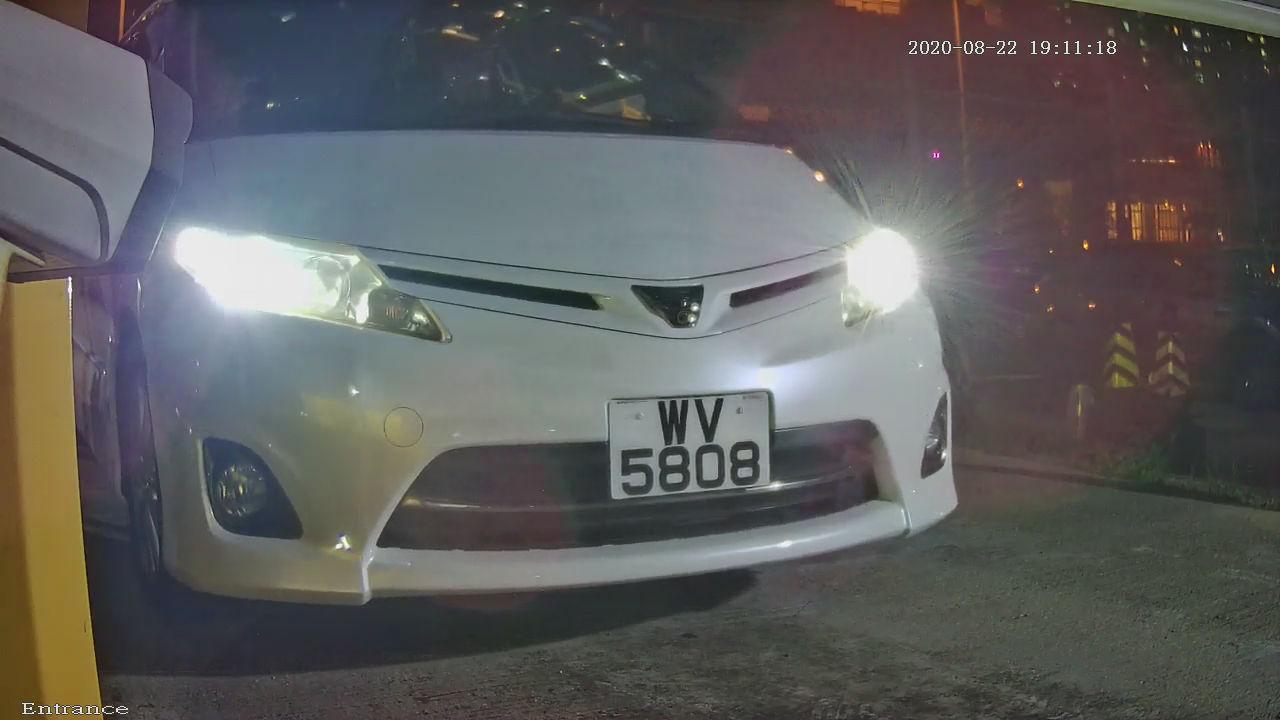Car: (6, 7, 1041, 647)
License Plate: (583, 377, 795, 518)
